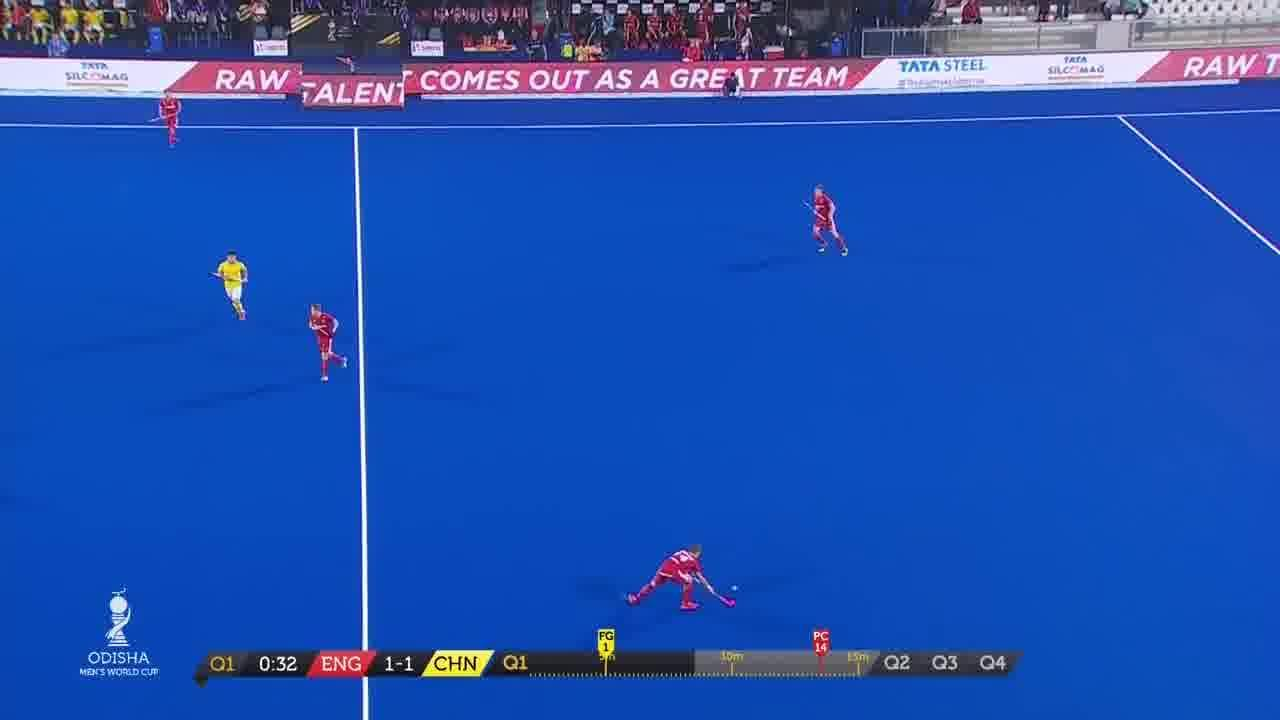ball: (724, 574, 748, 600)
